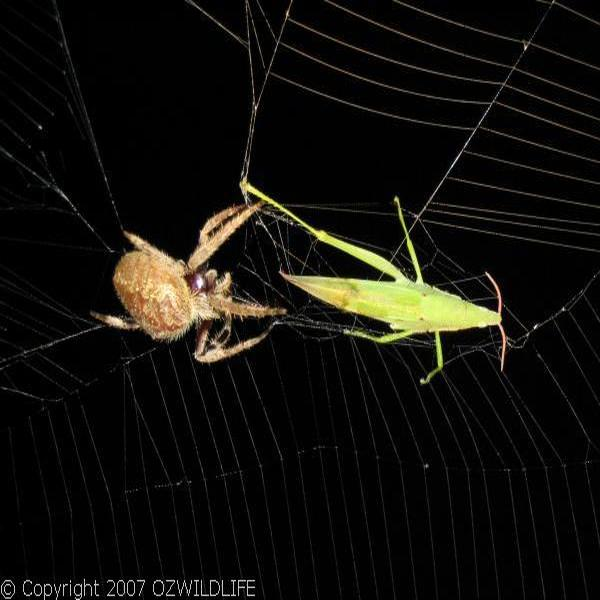Garden_Orb_Weaver_Spider: (90, 202, 286, 363)
